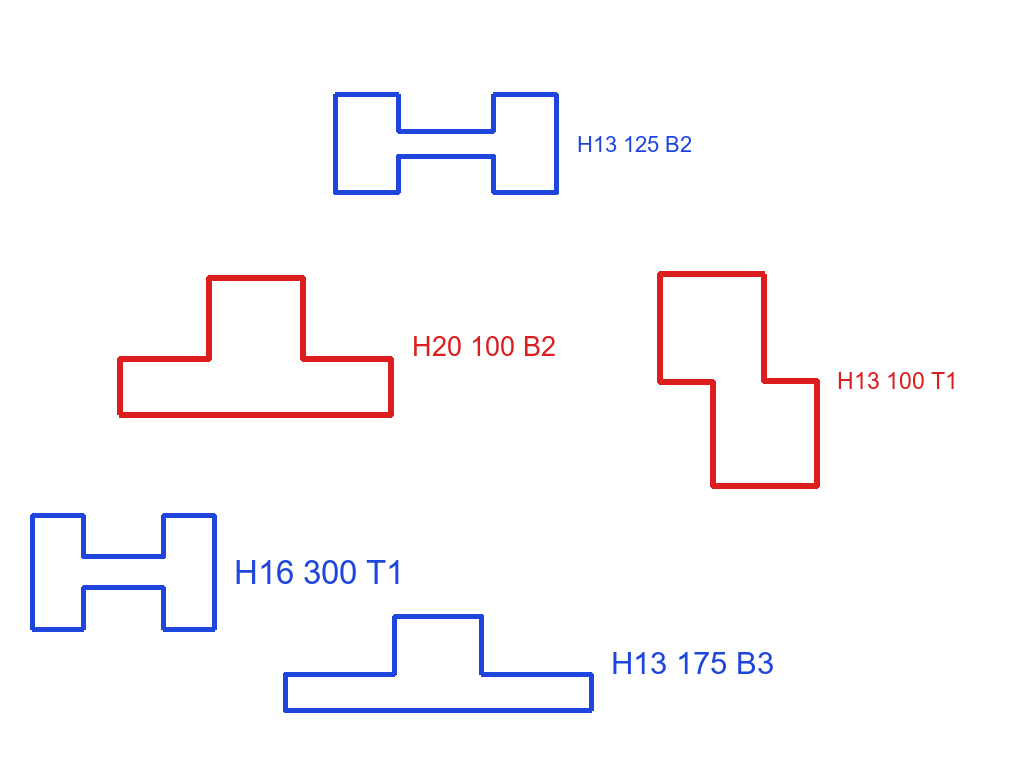shape: (115, 273, 397, 420), (655, 270, 822, 490), (281, 612, 596, 715), (331, 90, 561, 197), (28, 511, 219, 634)
text: (232, 558, 406, 586), (609, 650, 776, 676), (410, 334, 558, 358), (835, 370, 960, 391), (575, 134, 694, 154)
